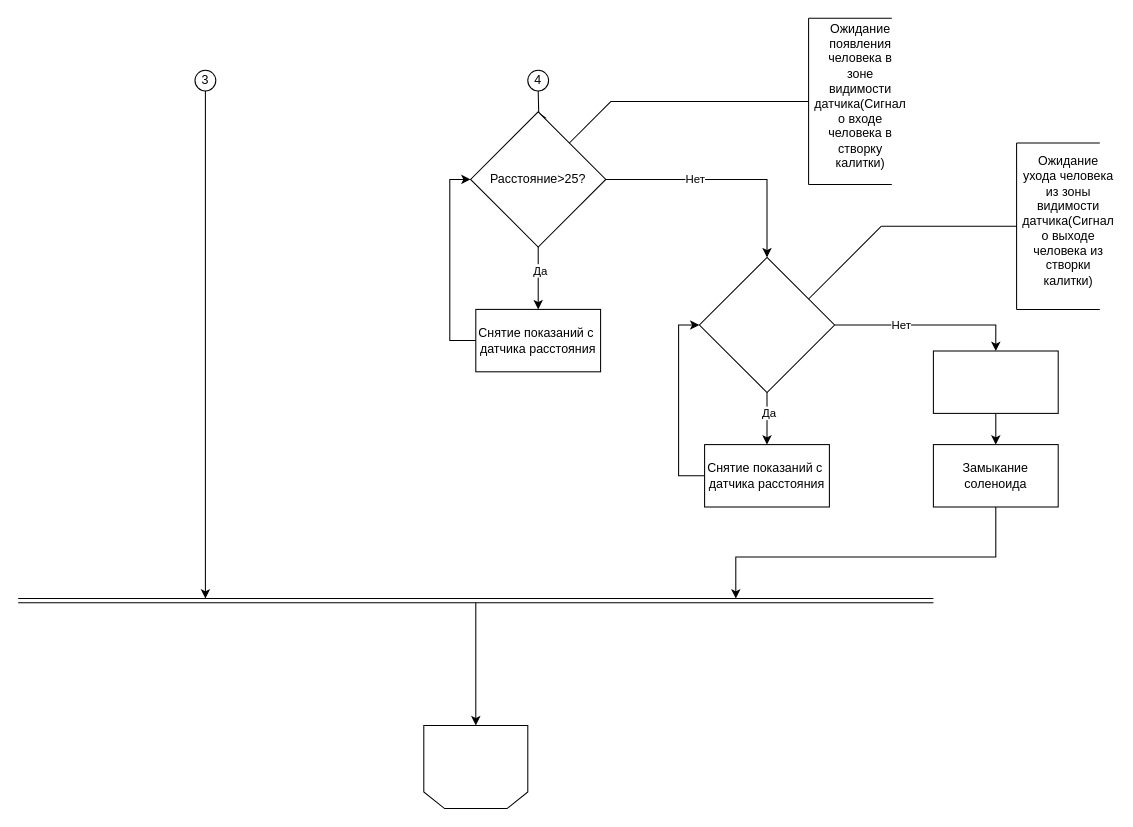
This 1133x827 diagram has some shape labels left out. Each missing label, with the centre of its shape:
"Закрытие калитки сервоприводом" belongs at (x=995, y=381).
"Конец цикла" belongs at (x=475, y=766).
"Расстояние<25?" belongs at (x=766, y=324).
